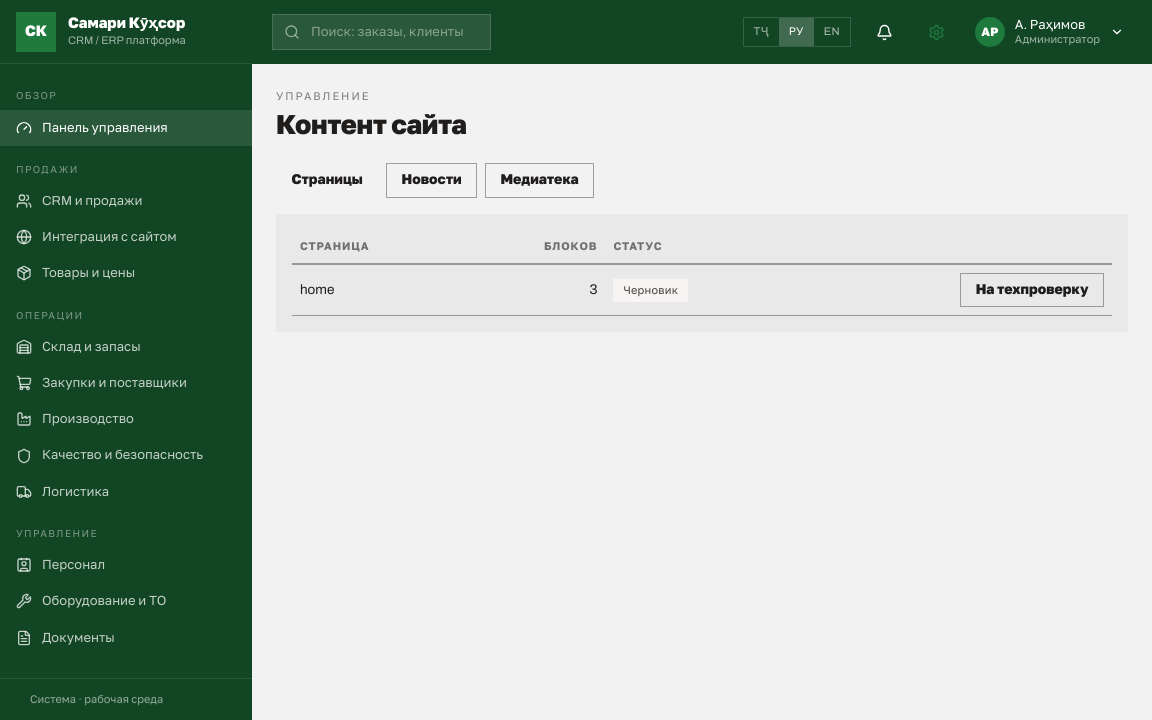
Test: block editor › sends the block with its locale
Later steps or results of the test are not shown.
What coordinates should you click on to do the following:
click the button "home"
I would click on:
 (317, 291)
Its box is [300,280,334,301].
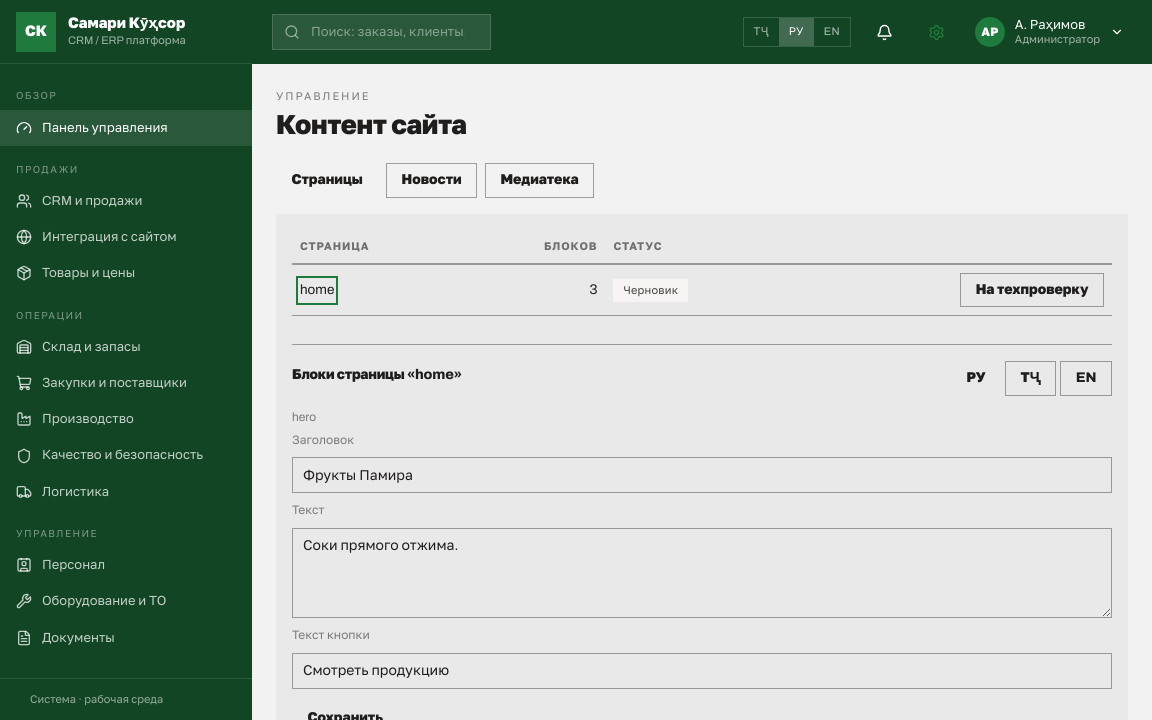
Expected: the form with test id "block-form" is shown, [292,408,1112,719]
